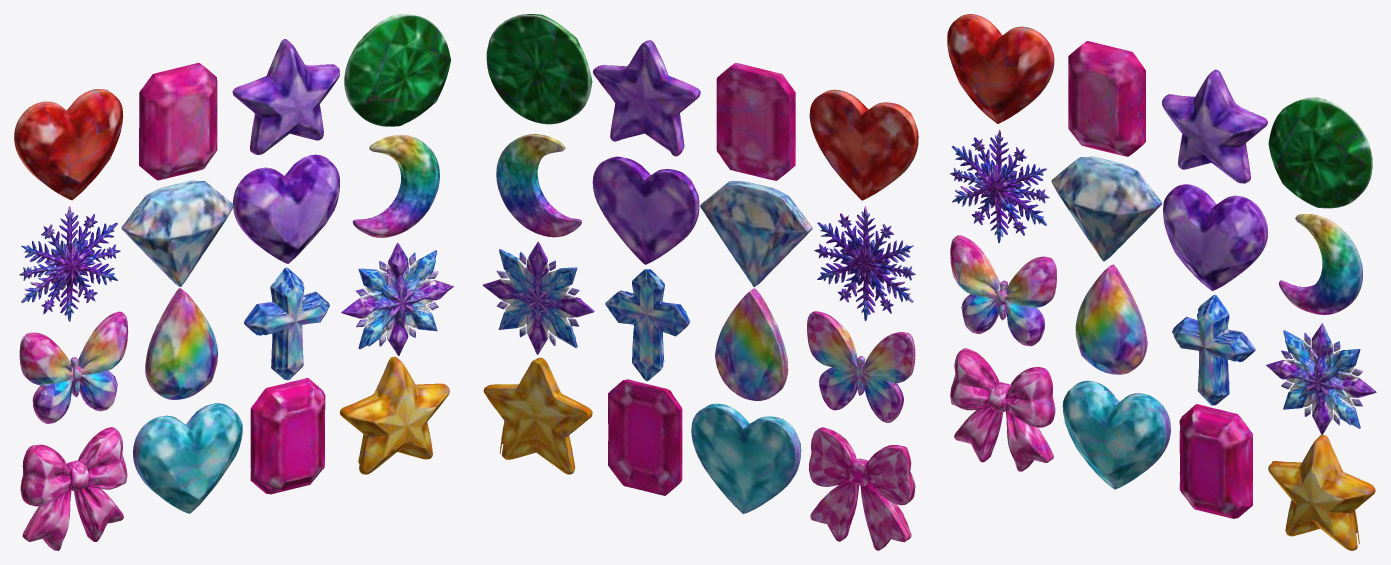
3 renders of one model, left to right at view 1: azimuth 30°, elevation 25°; view 2: azimuth 150°, elevation 25°; view 3: azimuth 330°, elevation 25°, orthographic.
Visible parts, largest first — view 1: Mesh 15, Mesh 4, Mesh 1, Mesh 6, Mesh 7, Mesh 10, Mesh 12, Mesh 3, Mesh 5, Mesh 14, Mesh 24, Mesh 9 (+4 smaller); view 2: Mesh 15, Mesh 4, Mesh 6, Mesh 1, Mesh 7, Mesh 10, Mesh 12, Mesh 3, Mesh 5, Mesh 14, Mesh 24, Mesh 9 (+4 smaller); view 3: Mesh 15, Mesh 4, Mesh 1, Mesh 6, Mesh 7, Mesh 10, Mesh 12, Mesh 3, Mesh 5, Mesh 14, Mesh 9, Mesh 24 (+4 smaller).
Boxes of the visible parts, x1,y1,x2,y2 form: Mesh 15: (344,14,450,126); Mesh 4: (20,427,127,550); Mesh 1: (14,89,122,200); Mesh 6: (133,403,242,513); Mesh 7: (139,63,217,180); Mesh 10: (233,154,339,263); Mesh 12: (250,378,325,494); Mesh 3: (19,311,128,423); Mesh 5: (121,180,233,286); Mesh 14: (339,356,449,474); Mesh 24: (341,243,453,355); Mesh 9: (232,39,339,154); Mesh 15: (486,14,592,124); Mesh 4: (808,427,915,550); Mesh 6: (691,403,801,514); Mesh 1: (809,89,918,200); Mesh 7: (716,63,795,180); Mesh 10: (592,156,699,264); Mesh 12: (608,379,682,495); Mesh 3: (807,311,915,422); Mesh 5: (700,181,812,287); Mesh 14: (483,357,592,474); Mesh 24: (482,241,594,354); Mesh 9: (593,40,700,156); Mesh 15: (1268,97,1372,208); Mesh 4: (950,348,1055,471); Mesh 1: (947,14,1054,123); Mesh 6: (1062,380,1170,489); Mesh 7: (1068,41,1145,156); Mesh 10: (1163,184,1267,290); Mesh 12: (1179,404,1252,518); Mesh 3: (950,235,1056,346); Mesh 5: (1051,156,1162,261); Mesh 14: (1268,434,1375,550); Mesh 9: (1162,69,1267,183); Mesh 24: (1266,323,1376,434).
Size of the model in its own units: 1.9 by 1.89 by 0.1193.
16 materials, 16 textured.
